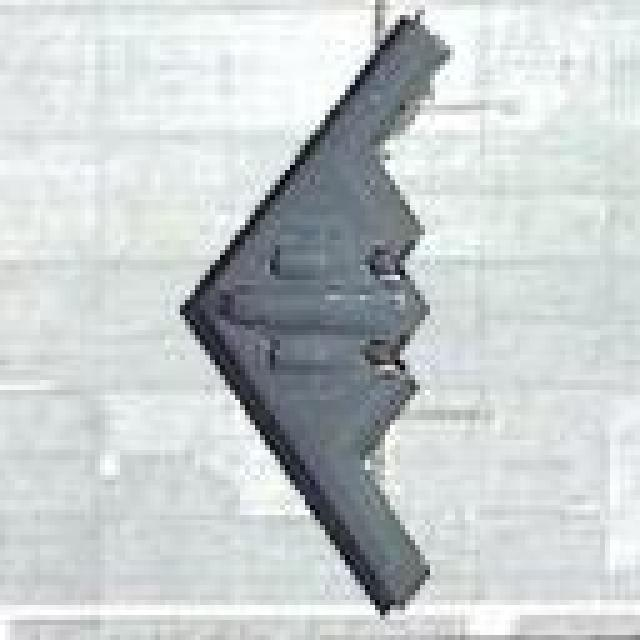B-2_TopDown: (175, 0, 455, 615)
